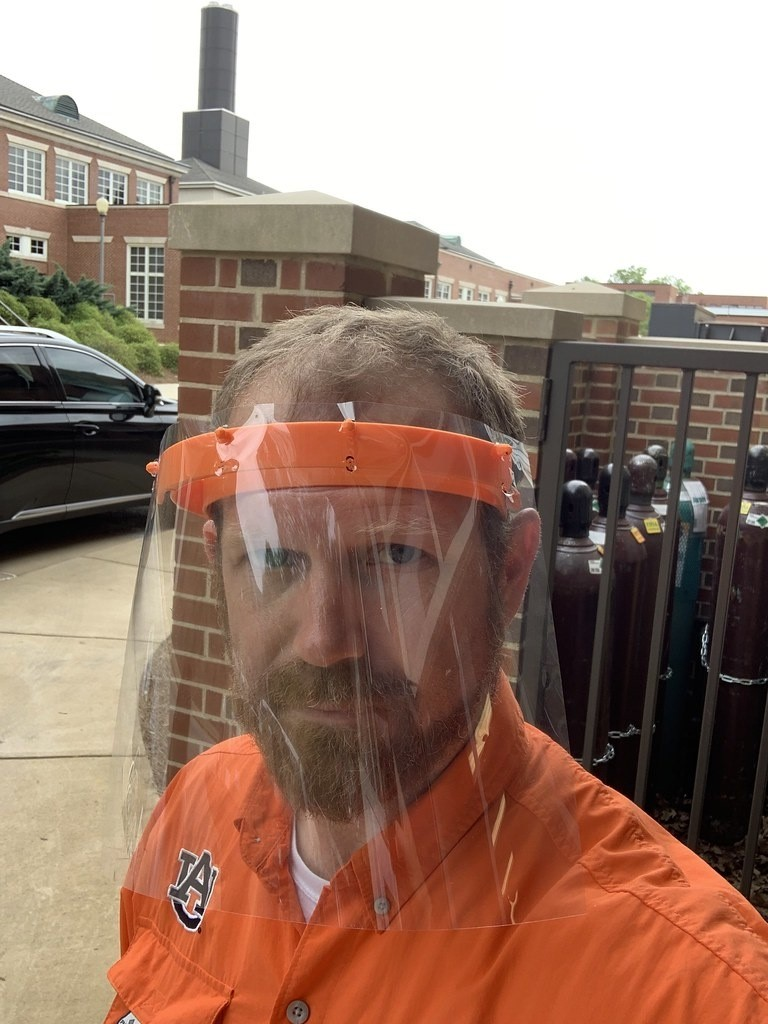face_no_mask: (205, 328, 511, 822)
